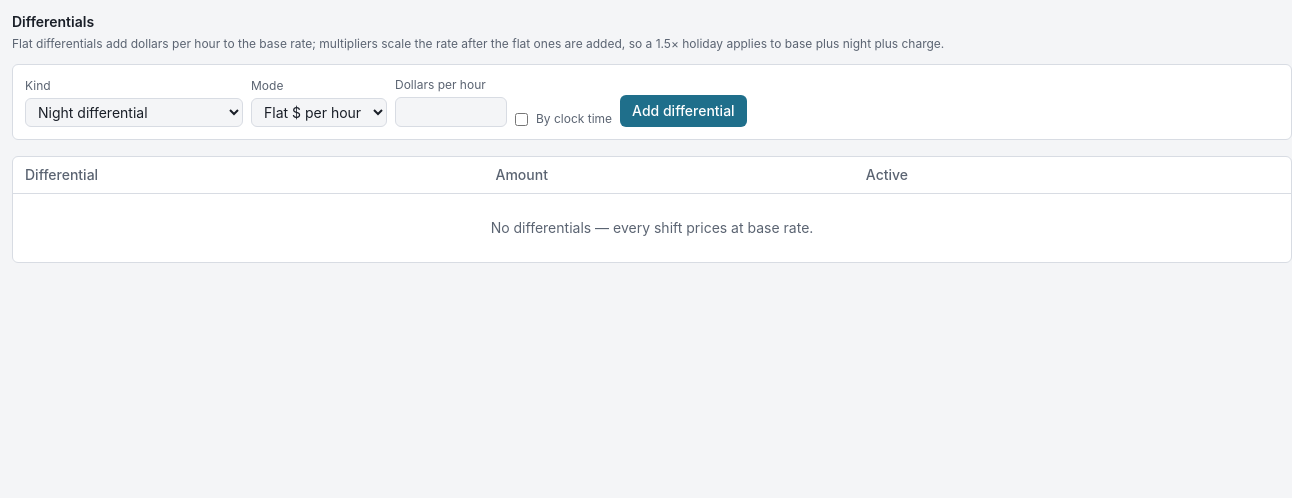
Test case: clock-time differentials in Settings › Pay › the UC consecutive-shift premium › will not save the premium with the shifts but not the days
Step 1. Select "Consecutive-shift premium" in the dropdown with test id "differential-kind" → {"x": 134, "y": 112}, box [25,98,243,127]
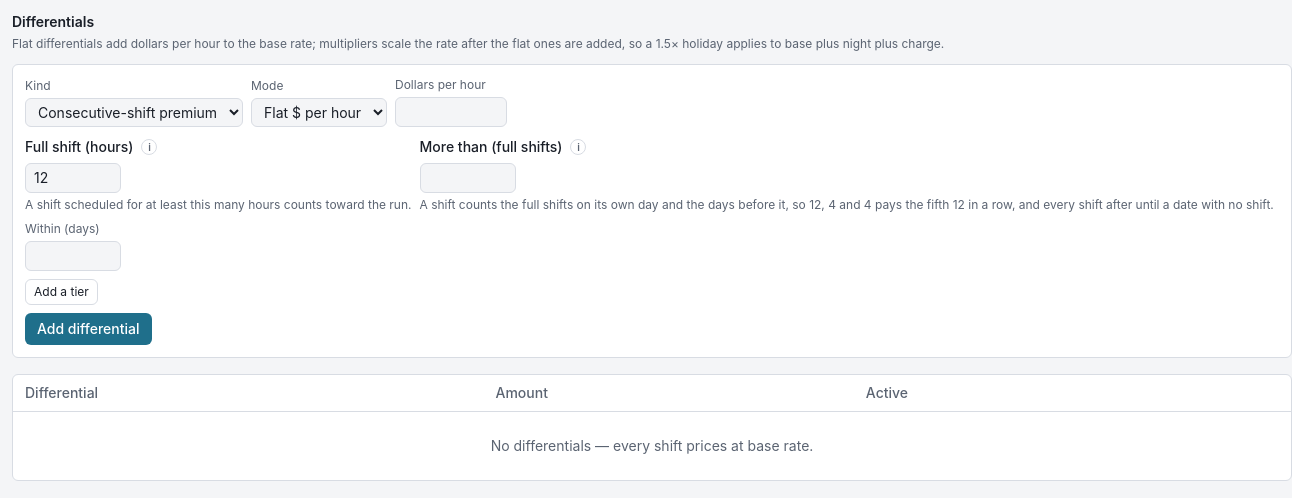
Step 2. Select "Multiplier" in the dropdown labelled "Mode" → {"x": 319, "y": 112}, box [251,98,387,127]
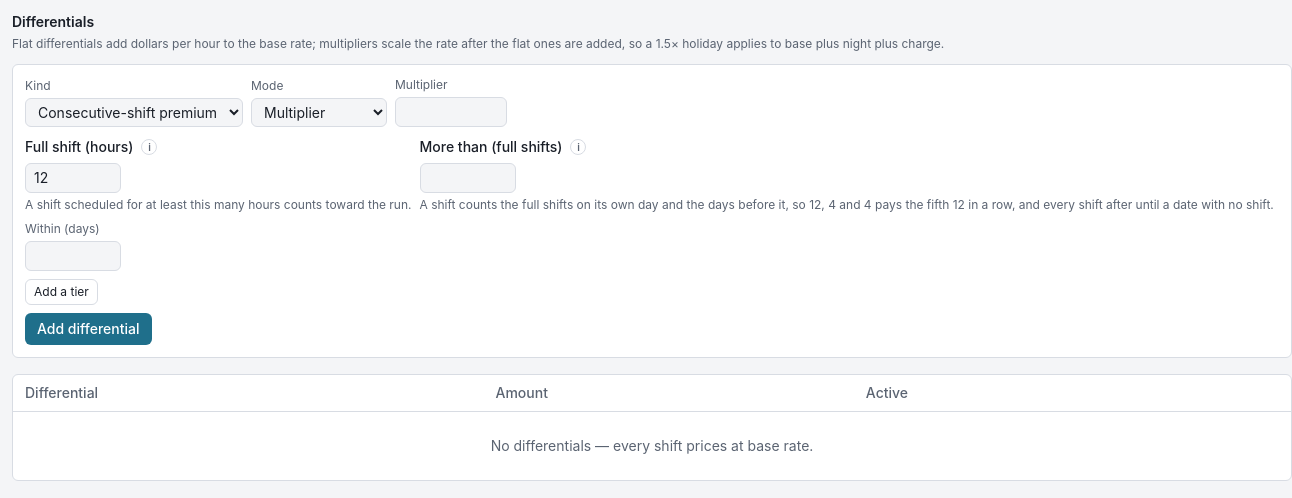
Step 3. Type "1.5" into the number field with test id "differential-amount" → {"x": 451, "y": 112}, box [395,97,507,127]
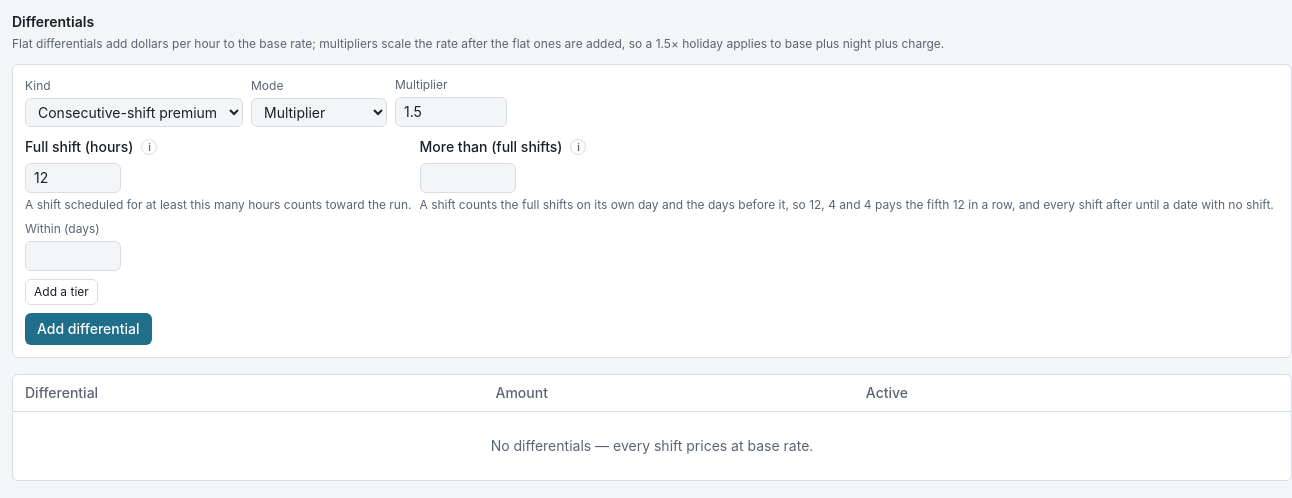
Step 4. Type "4" into the number field labelled "More than (full shifts)" → {"x": 468, "y": 178}, box [420,163,516,193]
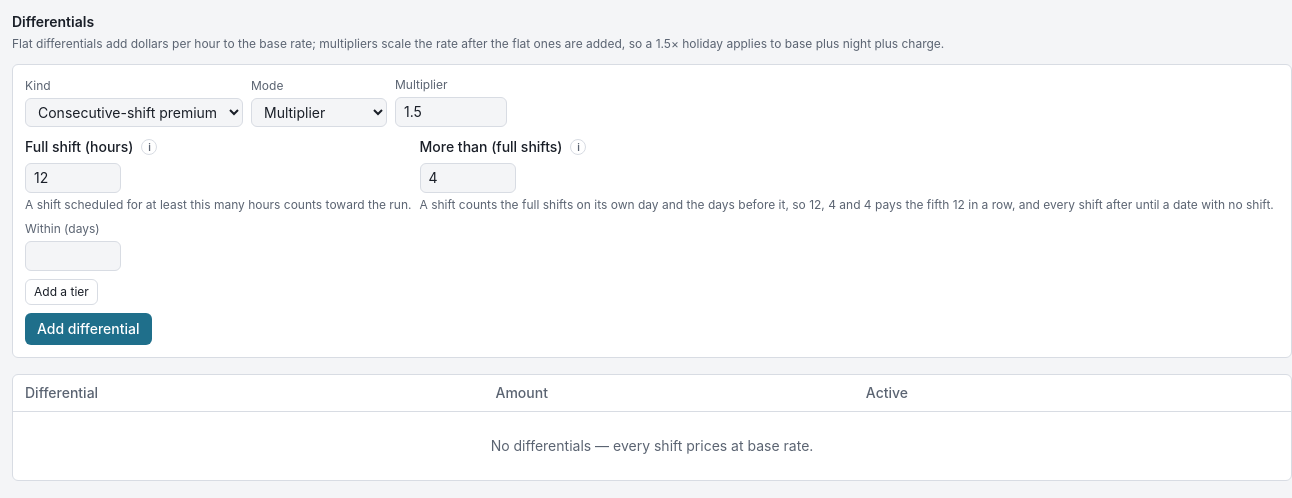
Step 5. Submit the form named "Add differential", box [12,64,1291,358]
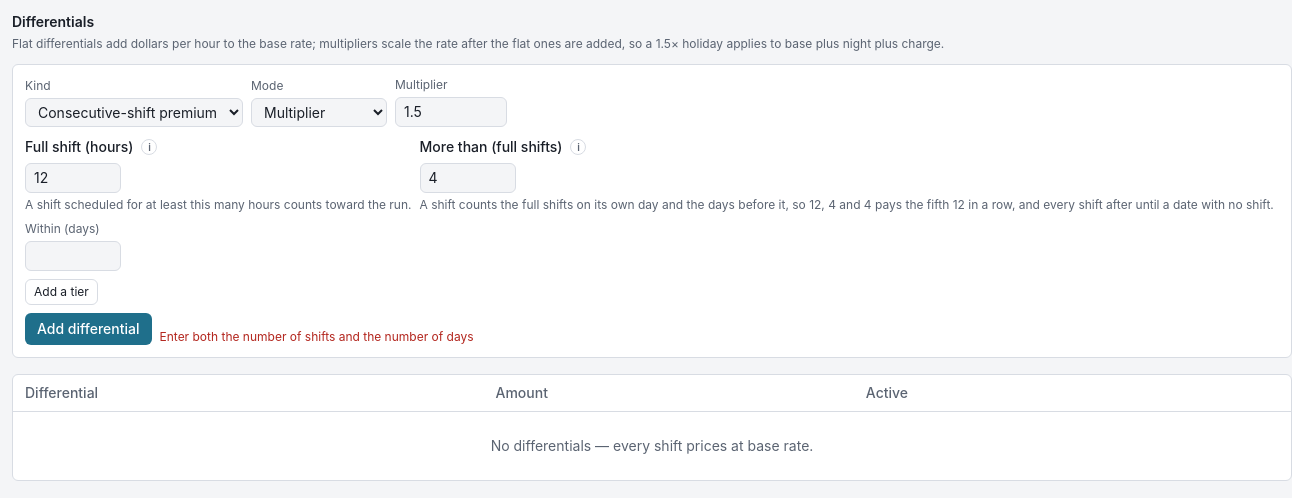
Expected: the text "Enter both the number of shifts and the number of days" is shown, [160,329,474,345]
